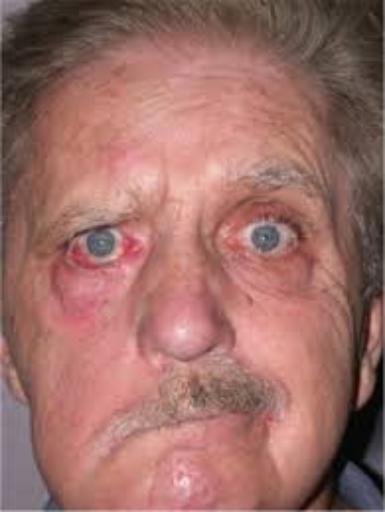left_eye: (228, 220, 304, 259)
left_lip_corner: (226, 398, 267, 428)
right_eye: (64, 230, 143, 269)
right_lip_corner: (107, 422, 158, 446)
